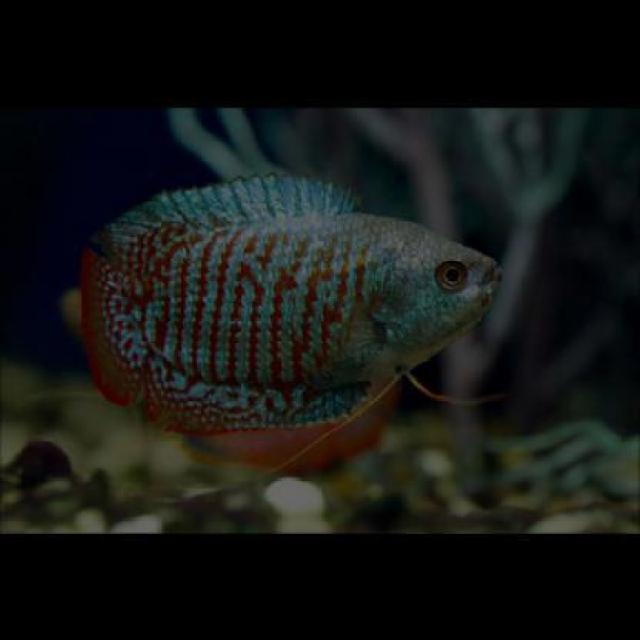Gourami: (74, 168, 500, 434)
